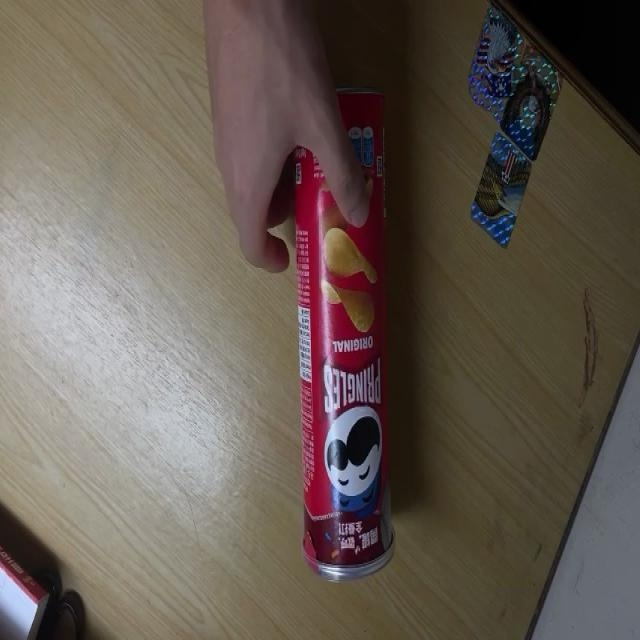Pringles: (294, 82, 395, 588)
